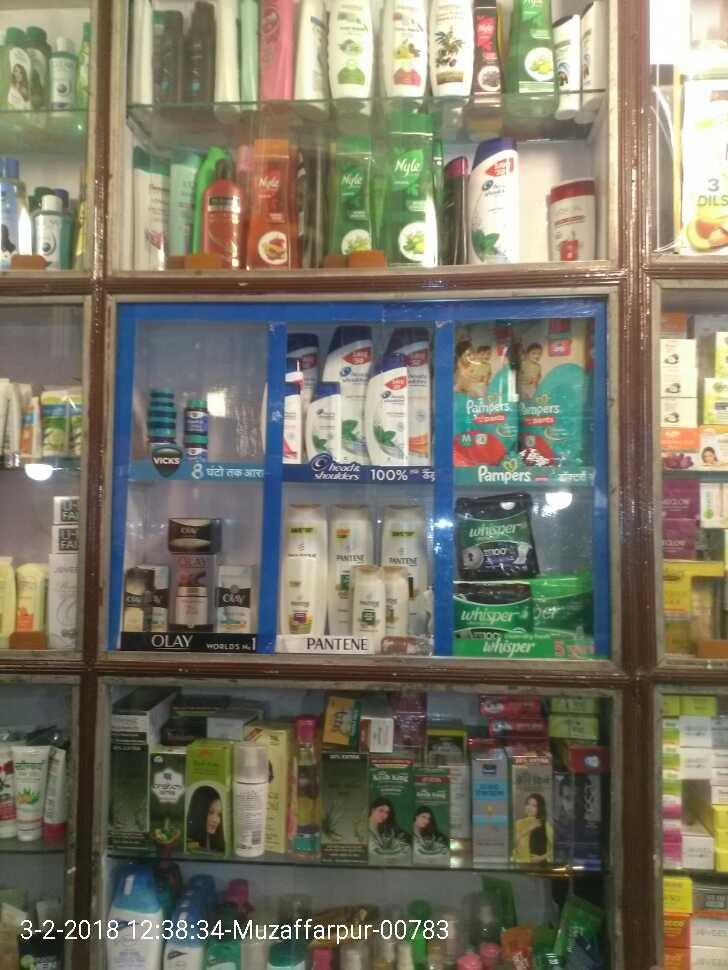vicks: (127, 386, 218, 460)
